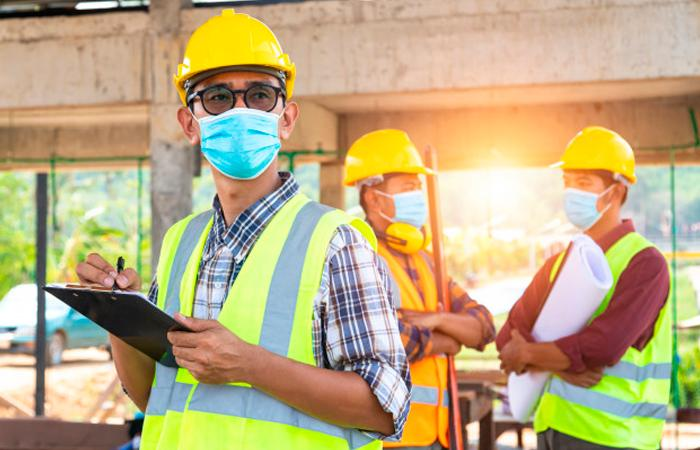hat: (152, 1, 313, 111), (325, 111, 453, 203), (547, 115, 673, 191)
vest: (133, 182, 383, 450), (520, 225, 691, 450), (337, 222, 479, 450)
